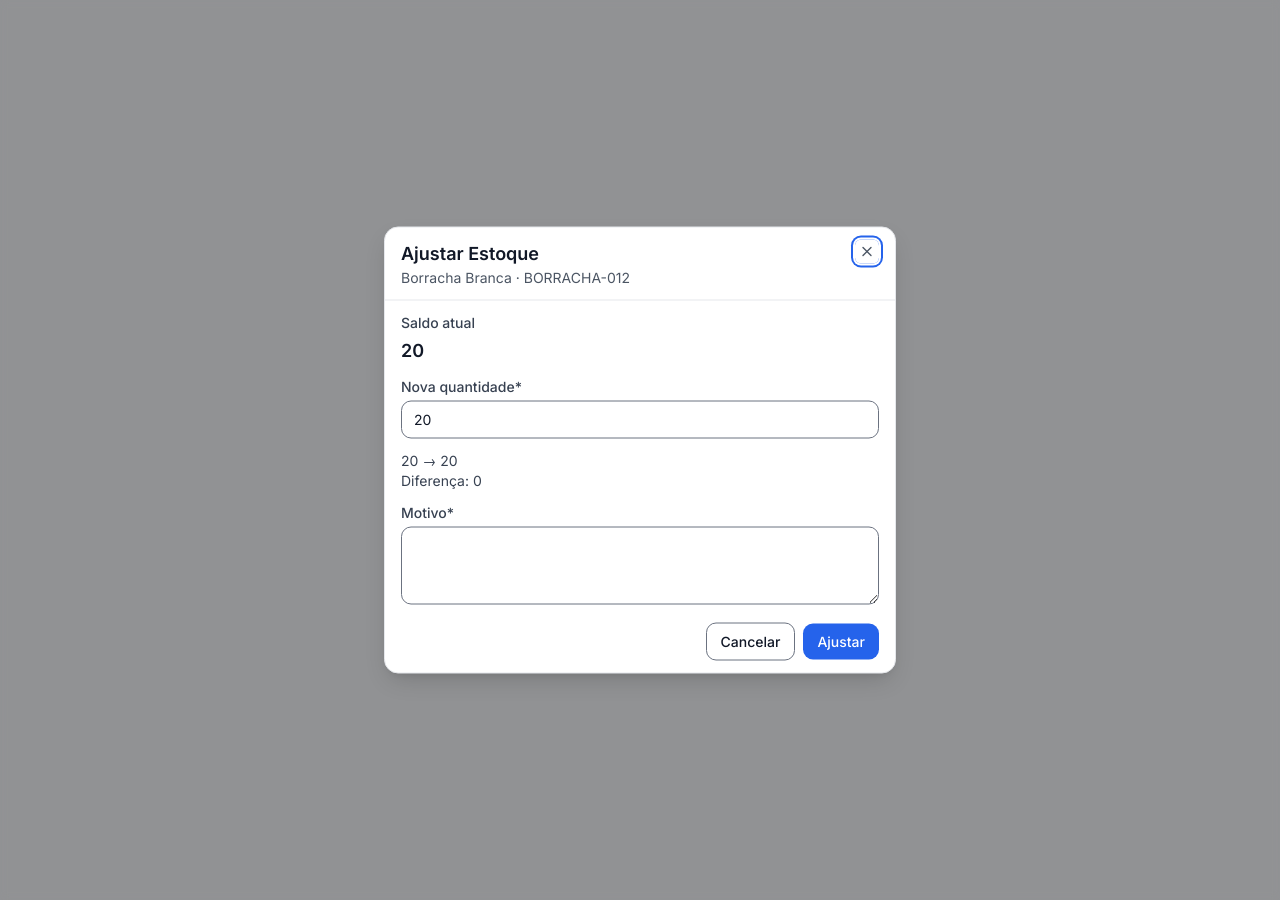
AdjustmentFormModal — formulário e confirmação (Task 4) › bloqueia a confirmação quando o alvo é igual ao saldo atual
Clear the number field labelled "Nova quantidade*" at (640, 420), box [401,400,879,438]
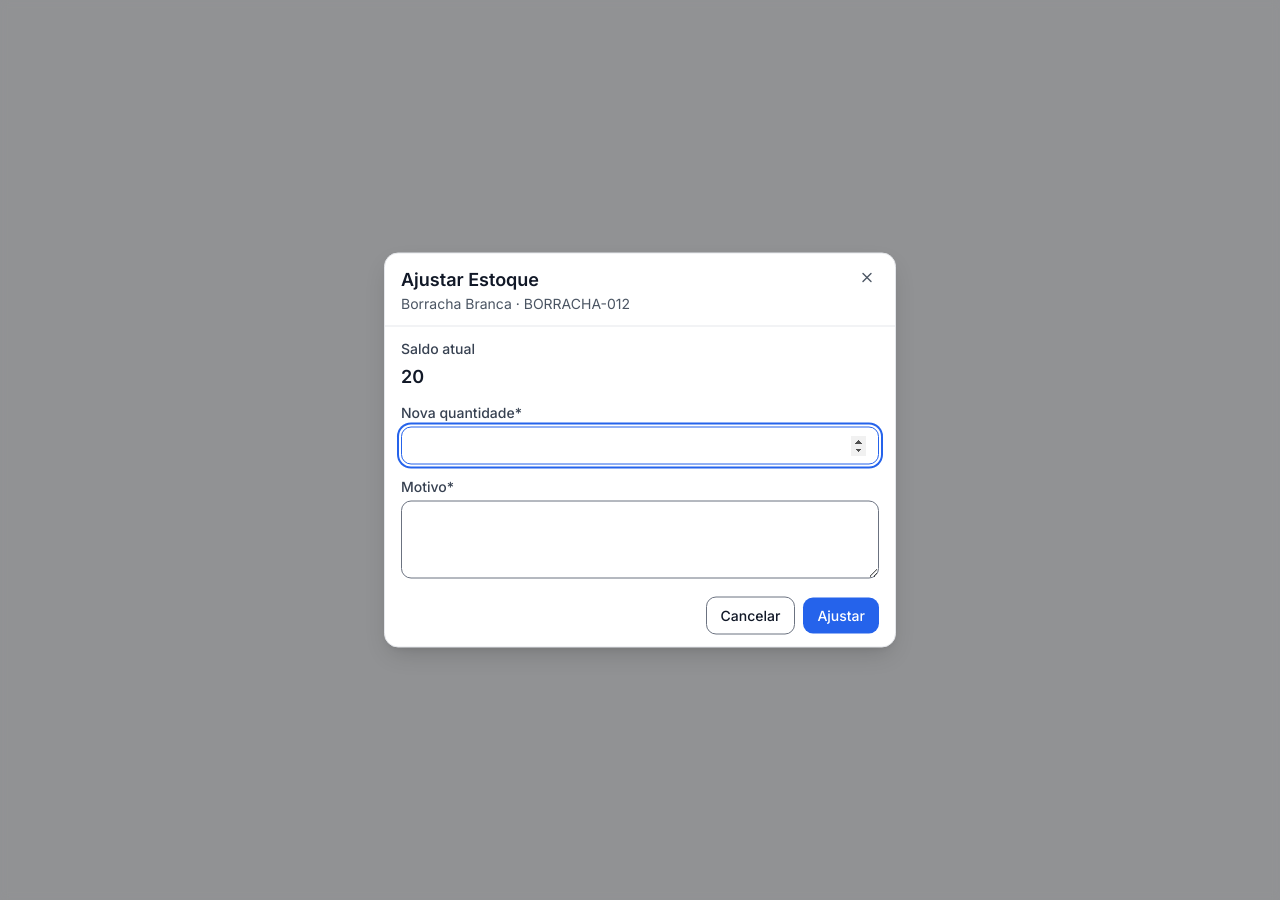
Type "20" into the number field labelled "Nova quantidade*" at (640, 446), box [401,426,879,464]
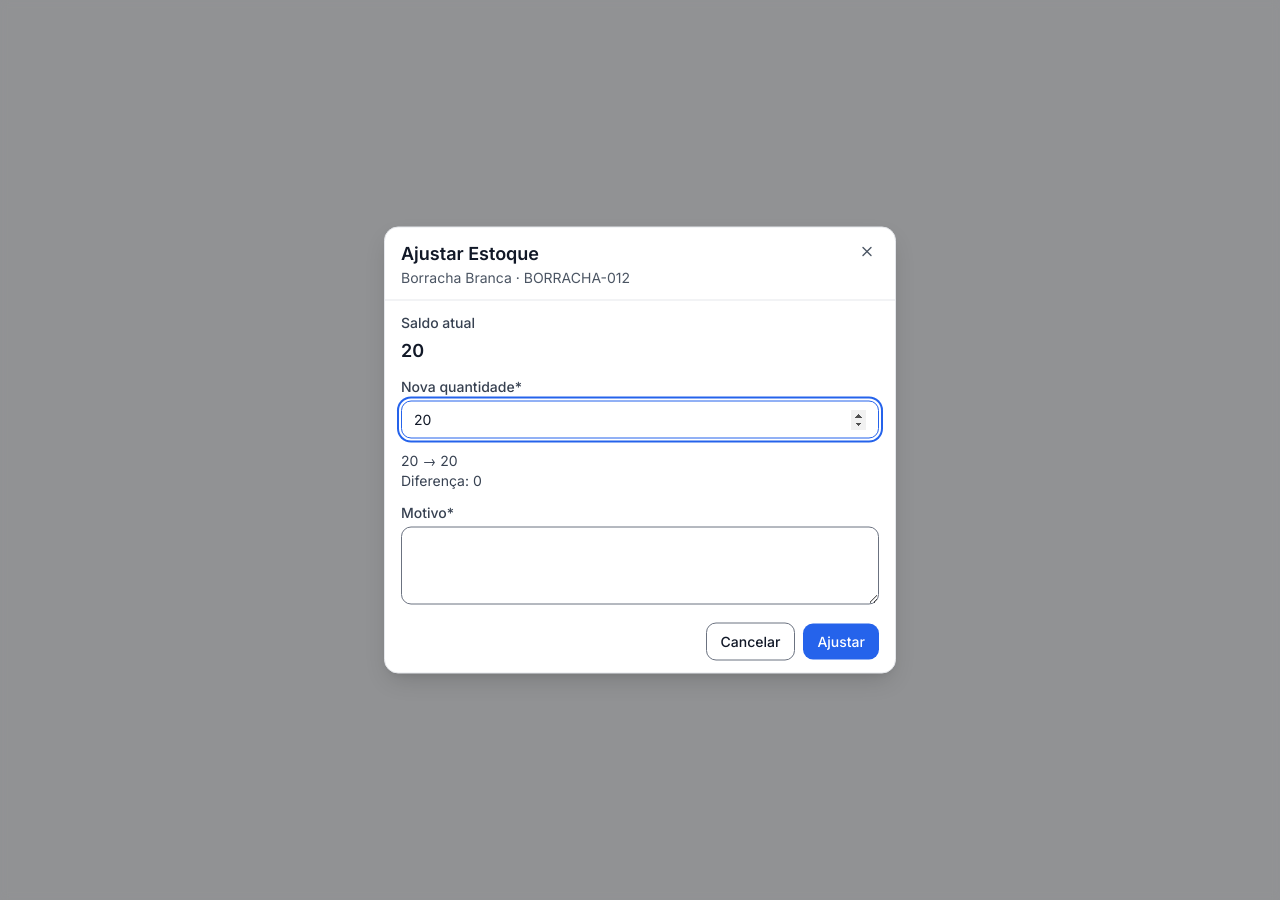
Type "Sem divergência" into the text box labelled "Motivo*" at (640, 566), box [401,526,879,604]
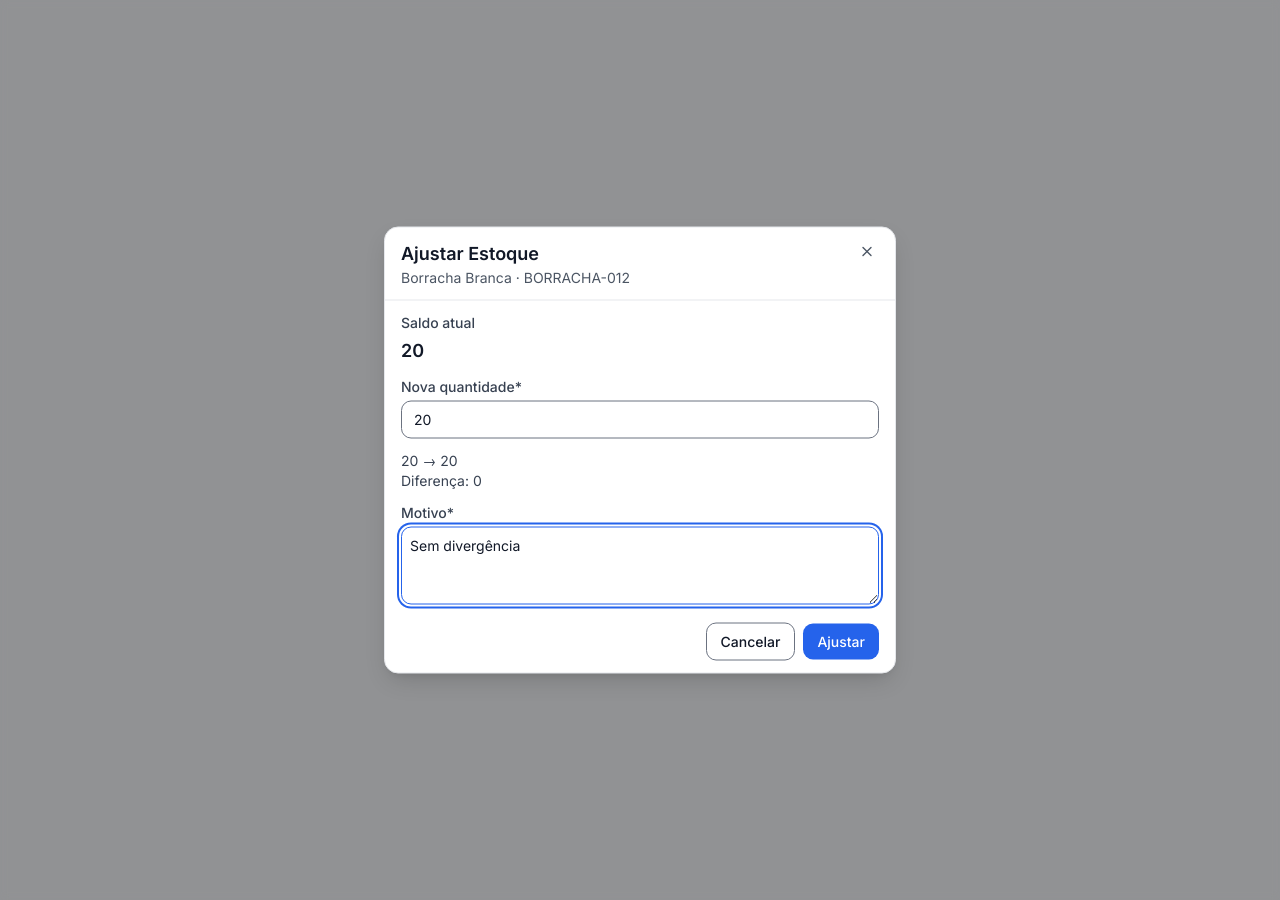
Click the button "Ajustar" at (841, 642), box [803,624,879,660]
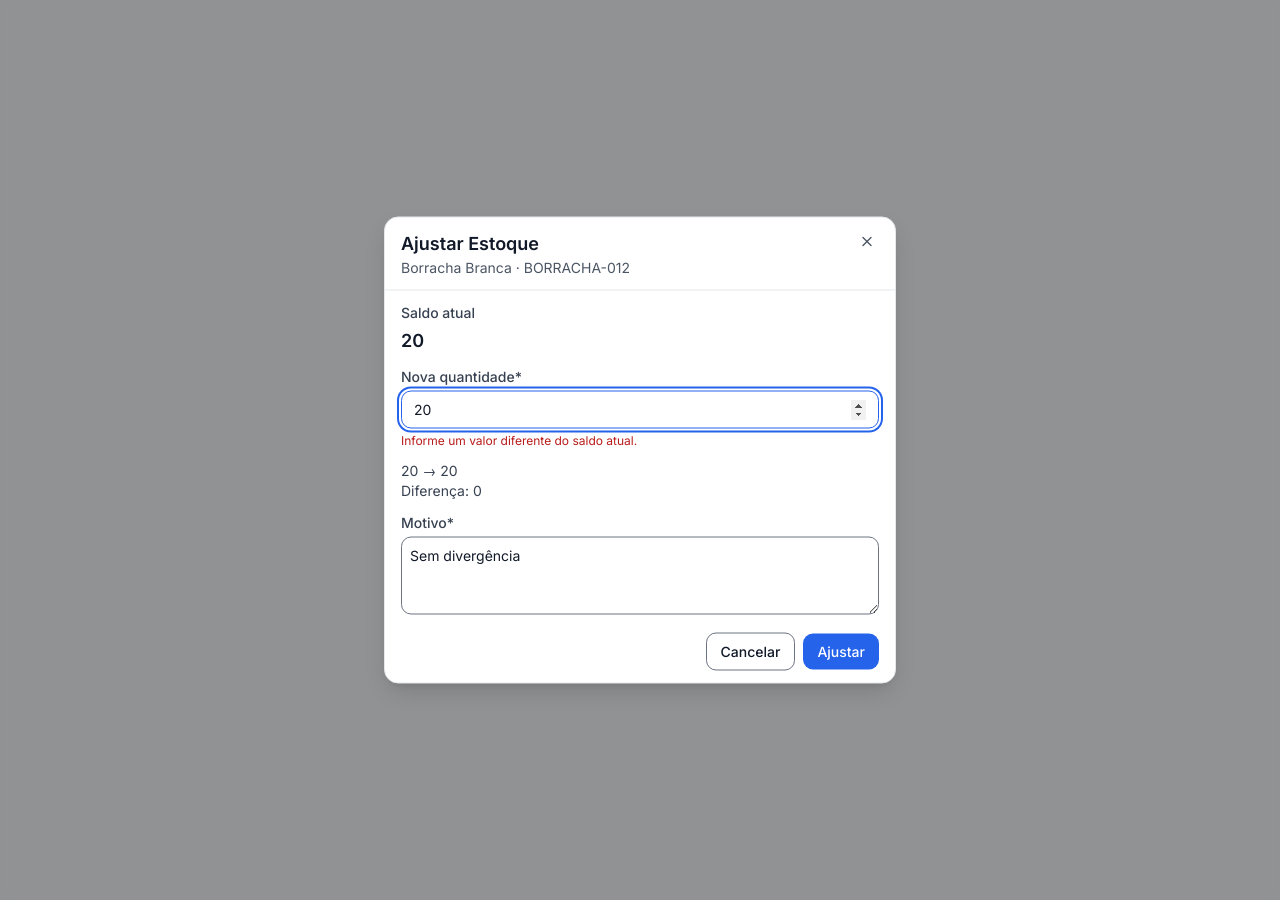
Check: the text "Informe um valor diferente do saldo atual." is shown, box [401,432,637,448]
